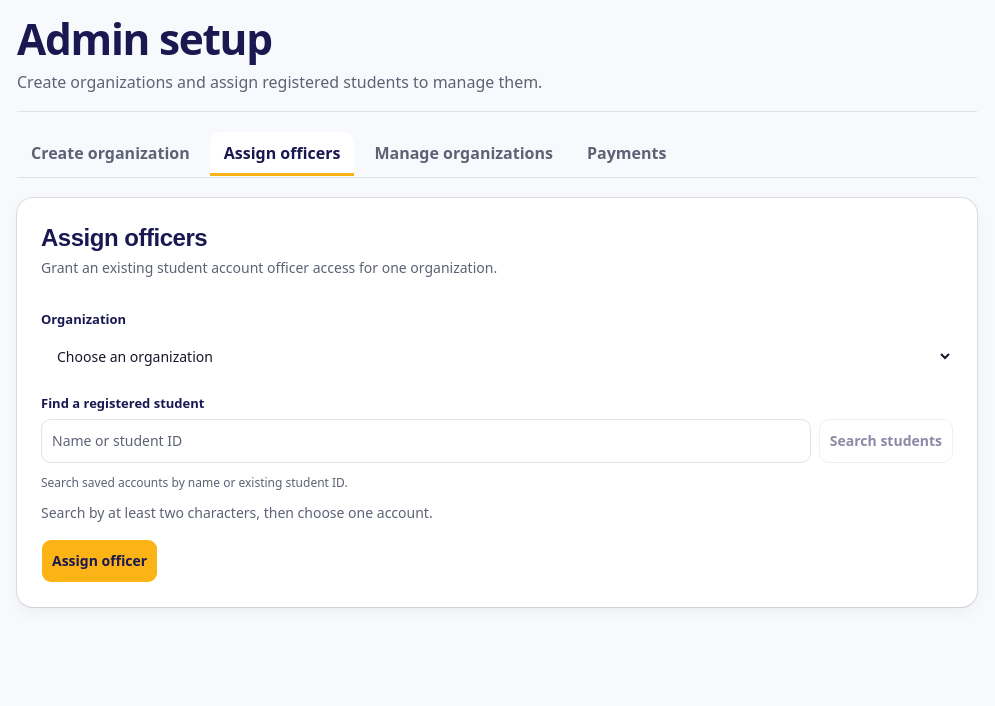
Admin provisioning page › clears the selected student and search results when the organization context changes
Select "Robotics Club" in the dropdown labelled "Organization" at (497, 356), box top-left (41, 334), bottom-right (953, 378)
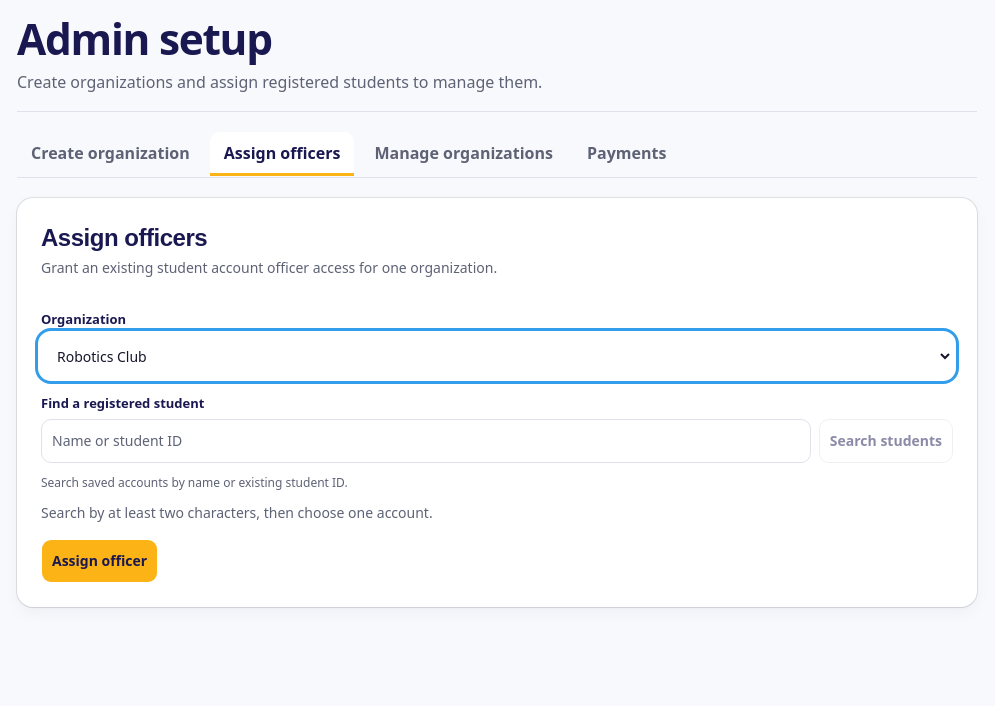
Type "Mara" into the search field labelled "Find a registered student" at (426, 441), box top-left (41, 419), bottom-right (811, 463)
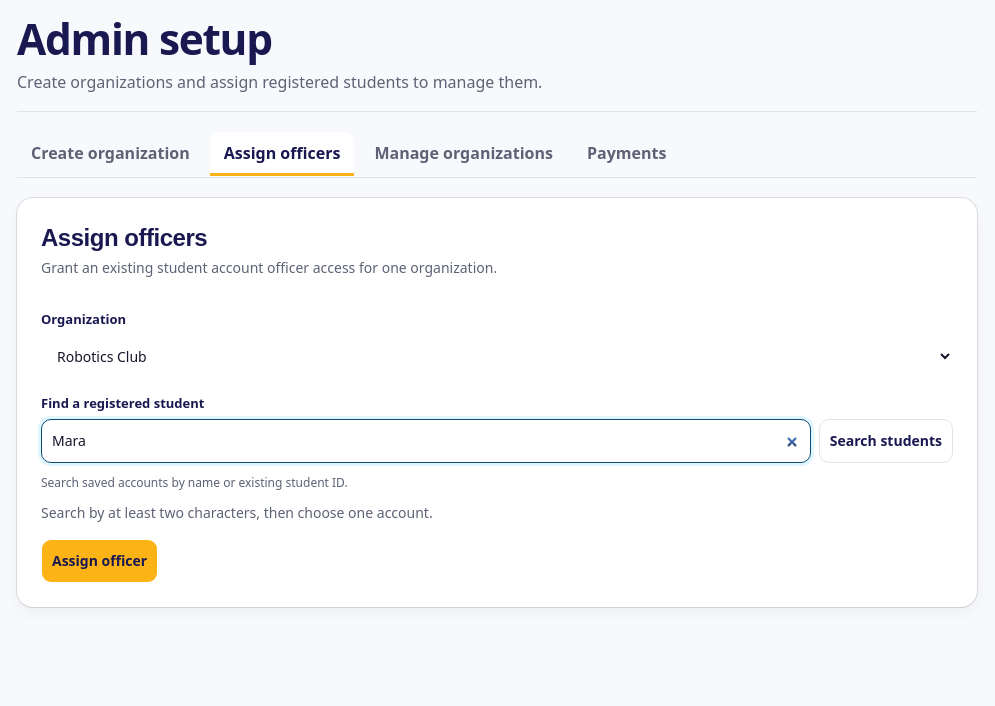
Click the button "Search students" at (886, 441), box top-left (819, 419), bottom-right (953, 463)
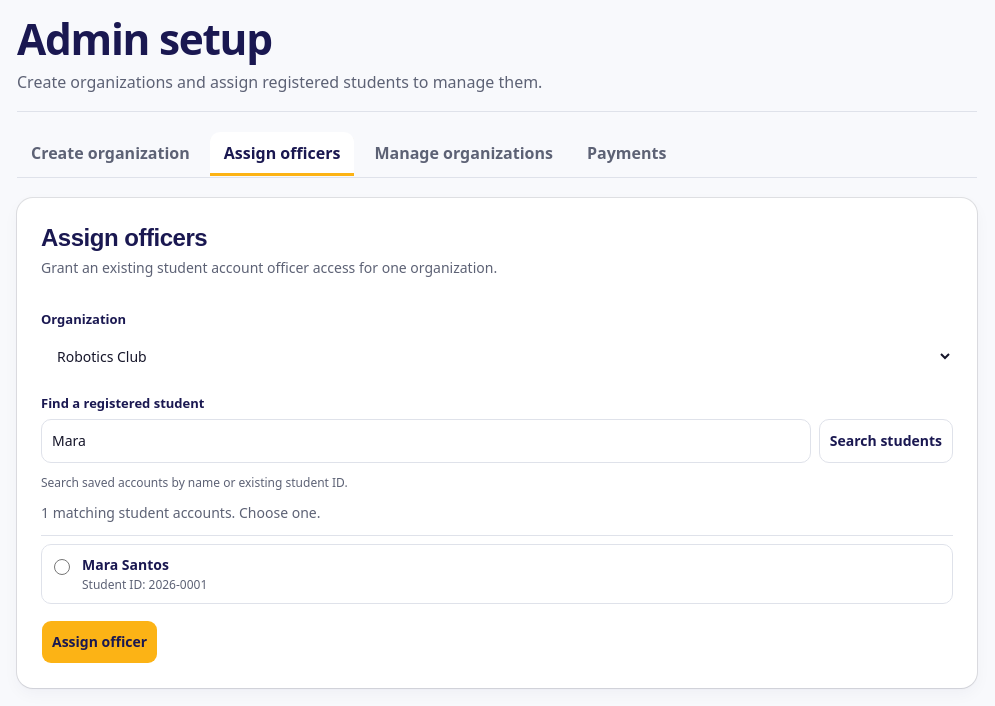
Click the radio button labelled "Mara Santos Student ID: 2026-0001" at (62, 567), box top-left (54, 559), bottom-right (70, 575)
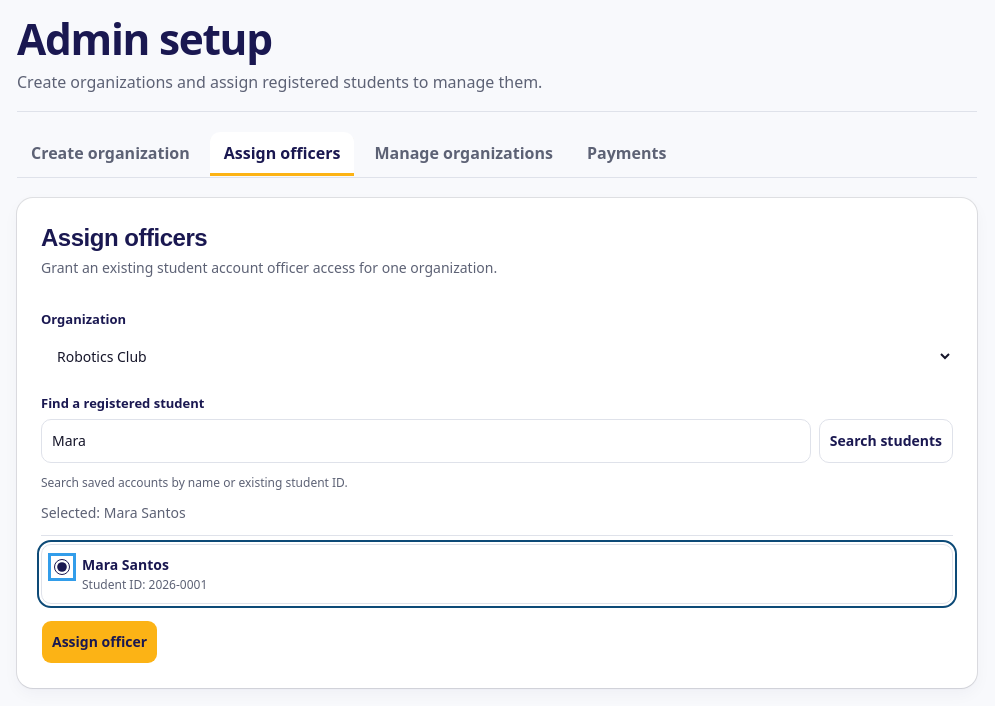
Select "Engineering Club" in the dropdown labelled "Organization" at (497, 356), box top-left (41, 334), bottom-right (953, 378)
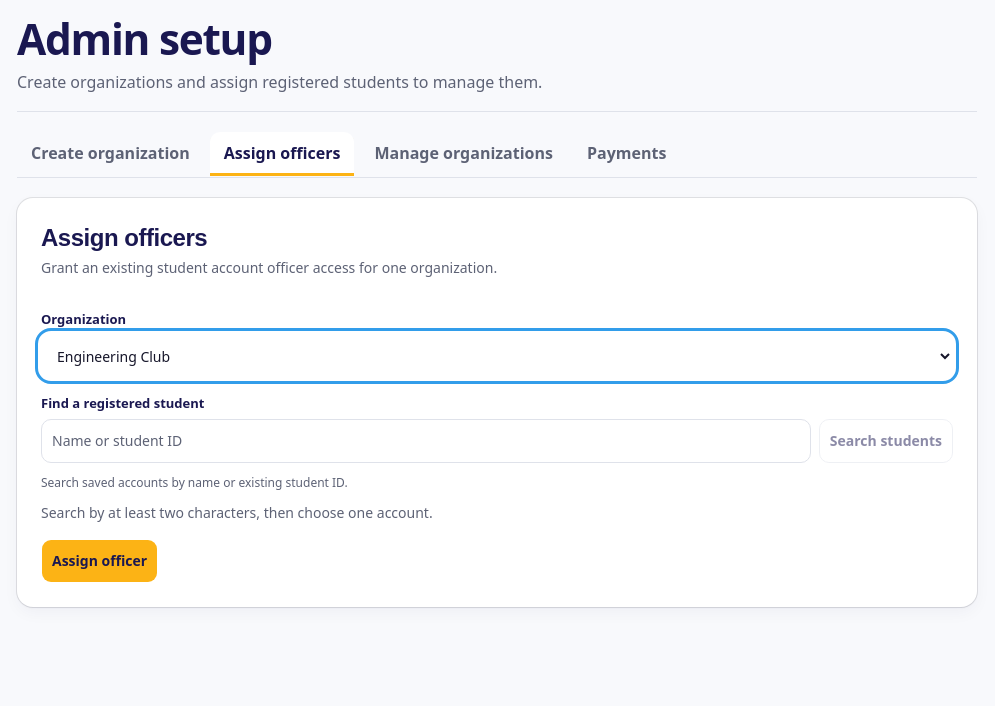
Expected: the search field labelled "Find a registered student" is empty, top-left (41, 419), bottom-right (811, 463)
Expected: the message "Mara Santos" is gone
Click the button "Assign officer" at (100, 561), box top-left (41, 539), bottom-right (158, 583)
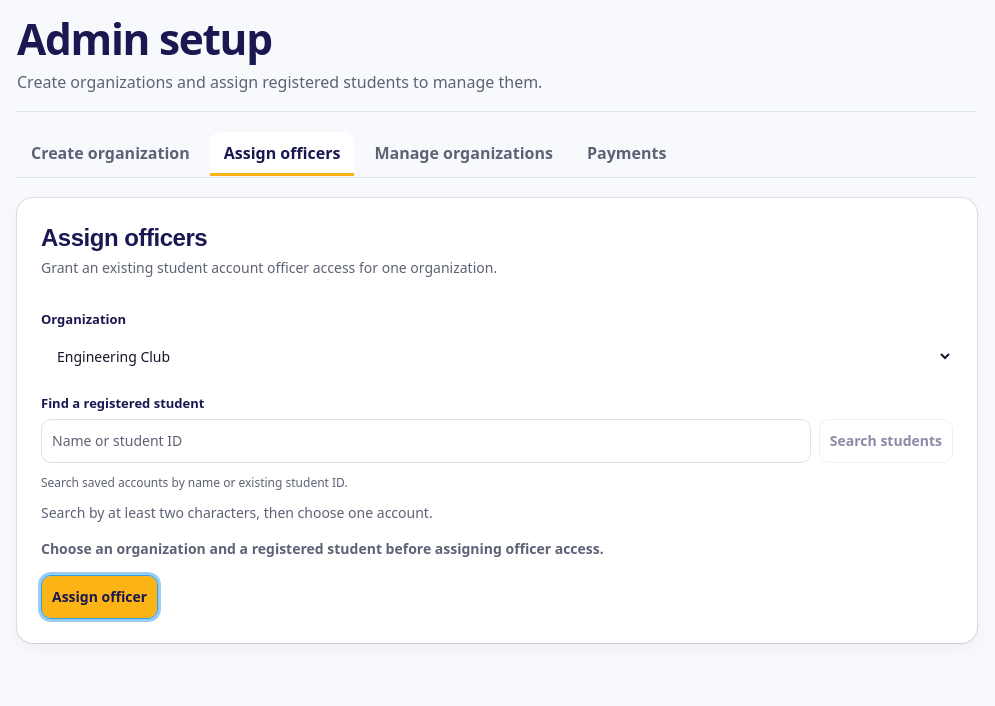
Expected: the text "Choose an organization and a registered student" is shown, top-left (41, 539), bottom-right (604, 558)
